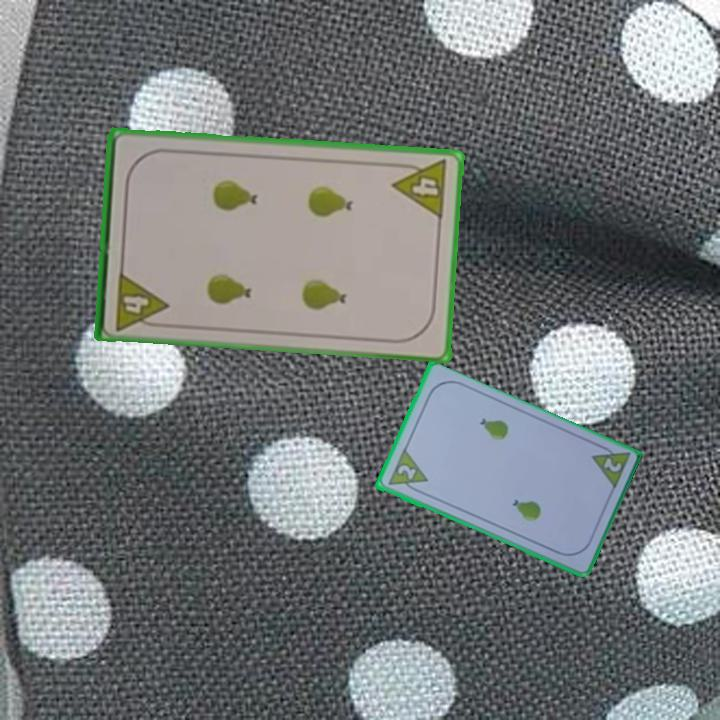2p: (587, 440, 633, 493), (394, 461, 419, 483)
4p: (389, 156, 451, 222), (111, 268, 170, 333)
